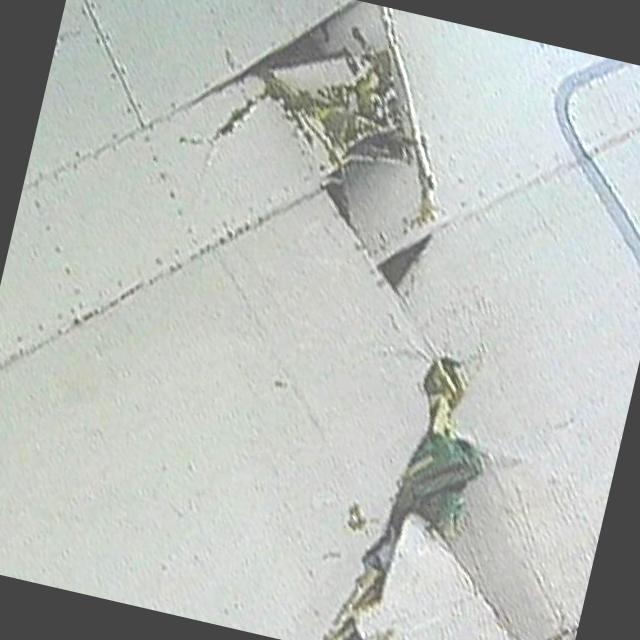crack: (170, 64, 275, 189)
